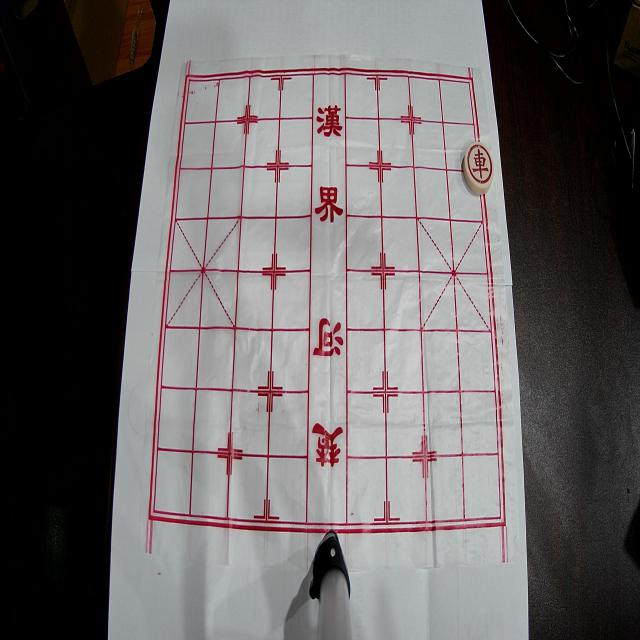red-chariot: (463, 141, 494, 195)
